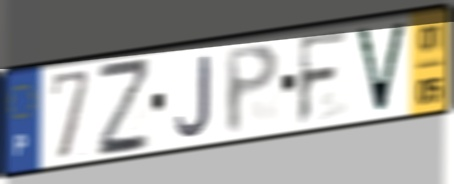7: (49, 65, 92, 163)
F: (295, 26, 352, 129)
J: (173, 52, 213, 139)
P: (223, 39, 283, 138)
V: (352, 18, 411, 117)
Z: (95, 57, 152, 161)
